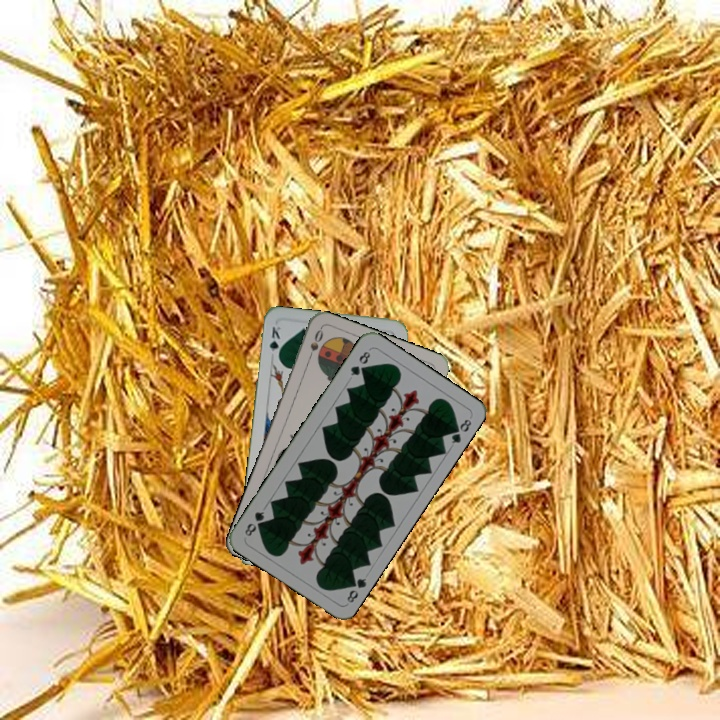G8: (346, 347, 373, 378), (343, 573, 369, 605)
GK: (266, 322, 284, 362)
SO: (304, 325, 326, 364)
